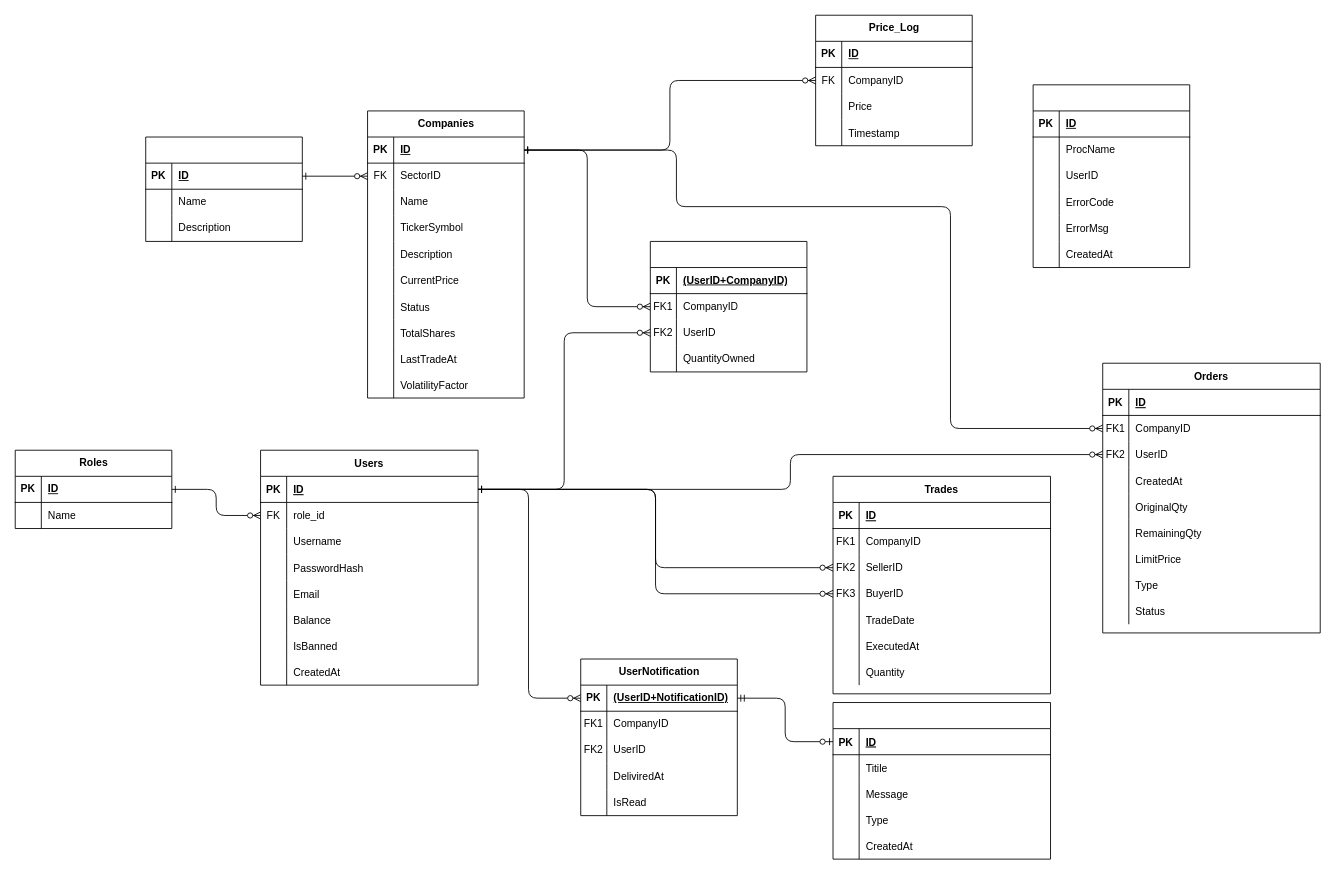
Some shapes in this 1335 by 874 pixel diagram are drawn without their labels. The shapes that lost their labels are listed below. From the top down, each one's box as (x1, y1, x2, y2) in pixels, then its label:
(145, 136, 302, 241): Sectors
(1032, 84, 1190, 268): Error_Log
(649, 241, 807, 372): Portfolios
(832, 702, 1051, 859): Notifications
